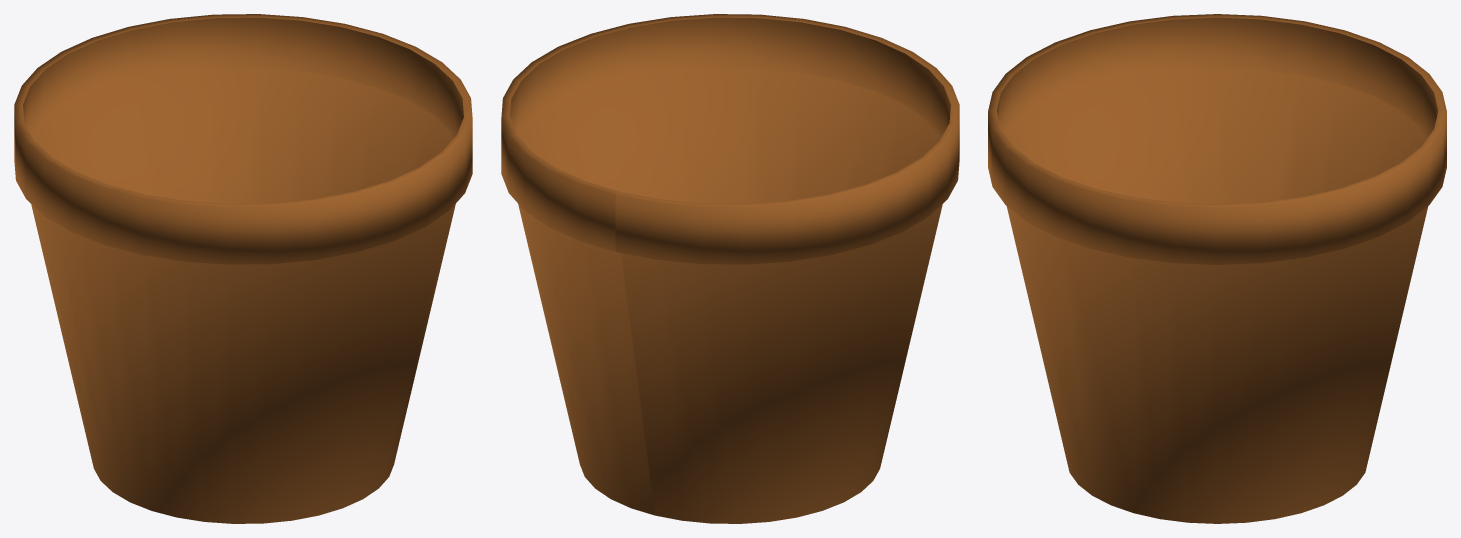
The model's file is pot.gltf.
3 renders of one model, left to right at view 1: azimuth 30°, elevation 25°; view 2: azimuth 150°, elevation 25°; view 3: azimuth 270°, elevation 25°, orthographic.
Visible parts, largest first — view 1: node-0; view 2: node-0; view 3: node-0.
Boxes of the visible parts, <box> form: node-0: <box>14,14,472,523</box>; node-0: <box>501,14,959,523</box>; node-0: <box>988,14,1446,523</box>.
Bounding box in the file's own units: 0.9349 × 0.7854 × 0.9349.
